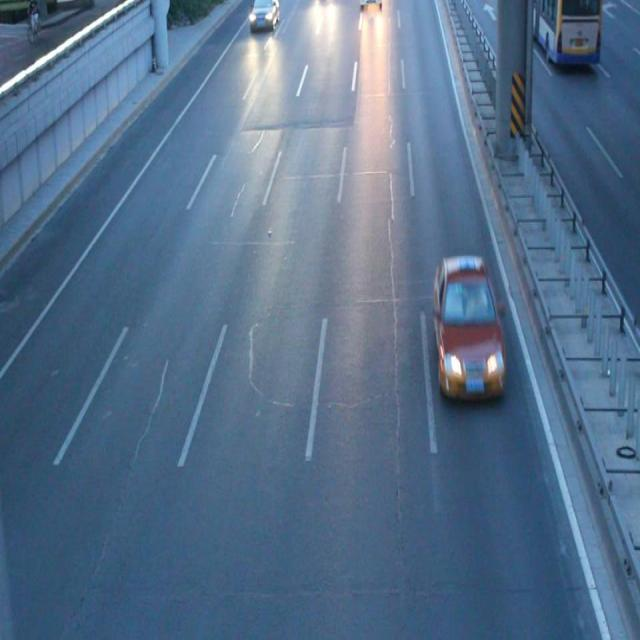car: (431, 257, 506, 403), (249, 1, 279, 30)
